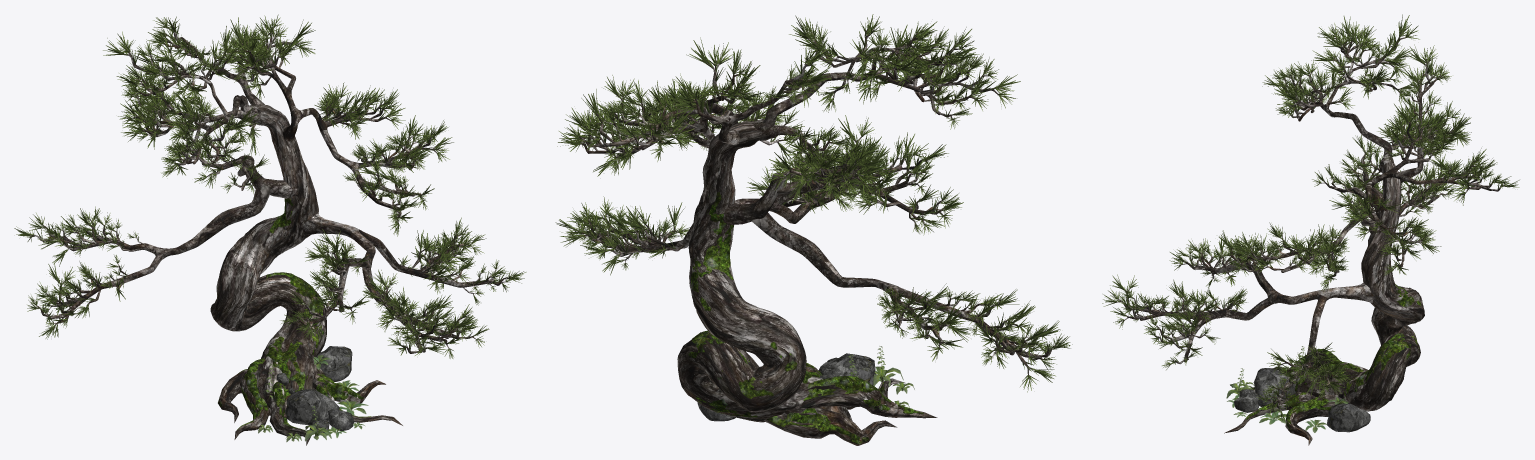
The model's file is pine.glb.
The picture shows the model from 3 angles, left to right: view 1: azimuth 30°, elevation 25°; view 2: azimuth 150°, elevation 25°; view 3: azimuth 270°, elevation 25°; orthographic projection. The views are drawn at different scales.
Visible parts, largest first — view 1: Pine.Shape; view 2: Pine.Shape; view 3: Pine.Shape.
Part boxes in pixels (<box>): Pine.Shape: <box>14,14,526,445</box>; Pine.Shape: <box>555,14,1072,445</box>; Pine.Shape: <box>1102,14,1519,445</box>.
Size of the model in its own units: 13.21 by 10.28 by 11.67.
6 materials, 6 textured.
